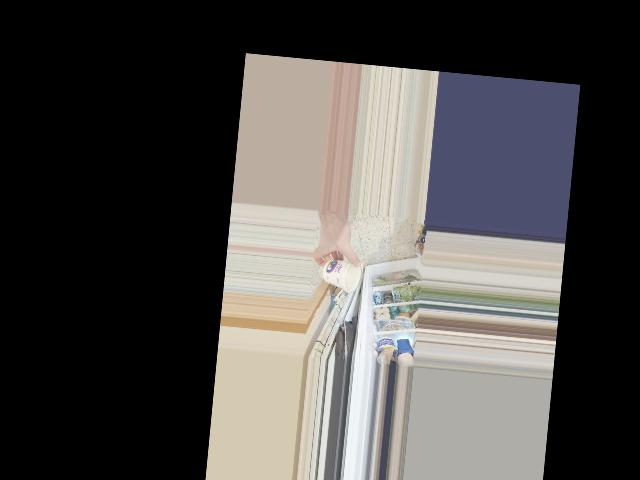cotage: (319, 255, 361, 292)
